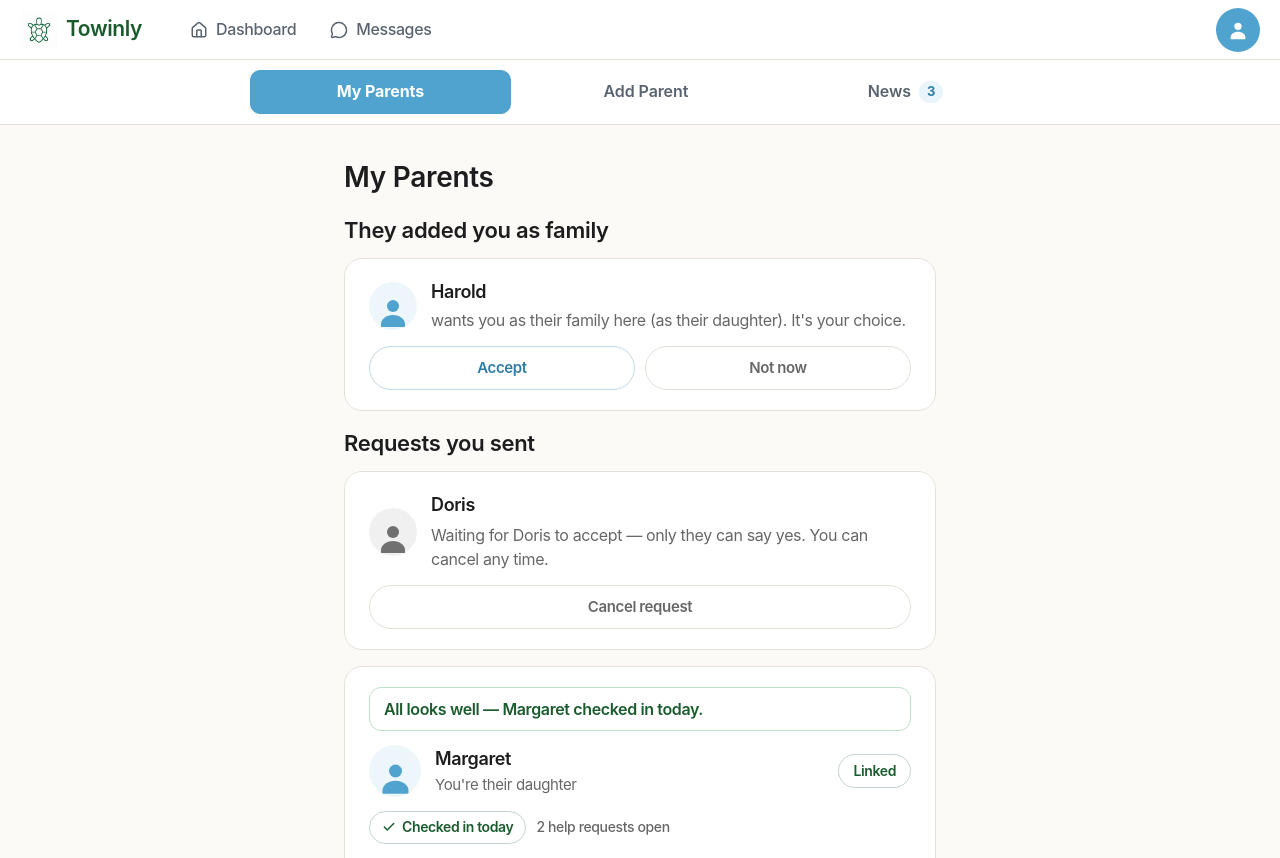
Test: FamilyHome › shows the alert feed with a plain-words explanation per alert type
expect the text "Margaret" is shown: met, box [435,748,511,769]
Click the tab "News 3".
click(906, 92)  # box [781,70,1030,114]
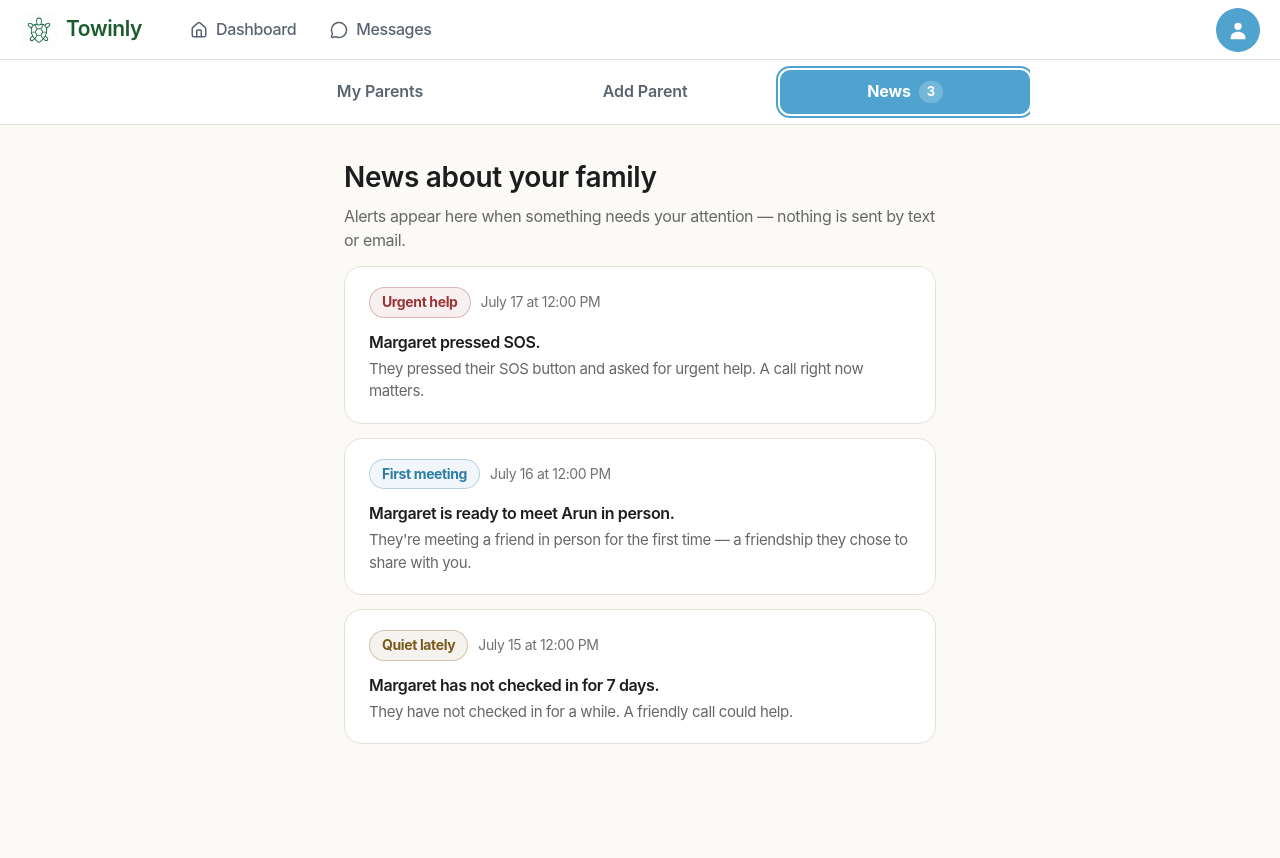
expect the text "Margaret pressed SOS." is shown: met, box [369,332,540,352]
expect the text "asked for urgent help" is shown: met, box [369,359,863,400]
expect the text "Margaret is ready to meet Arun in person." is shown: met, box [369,503,674,523]
